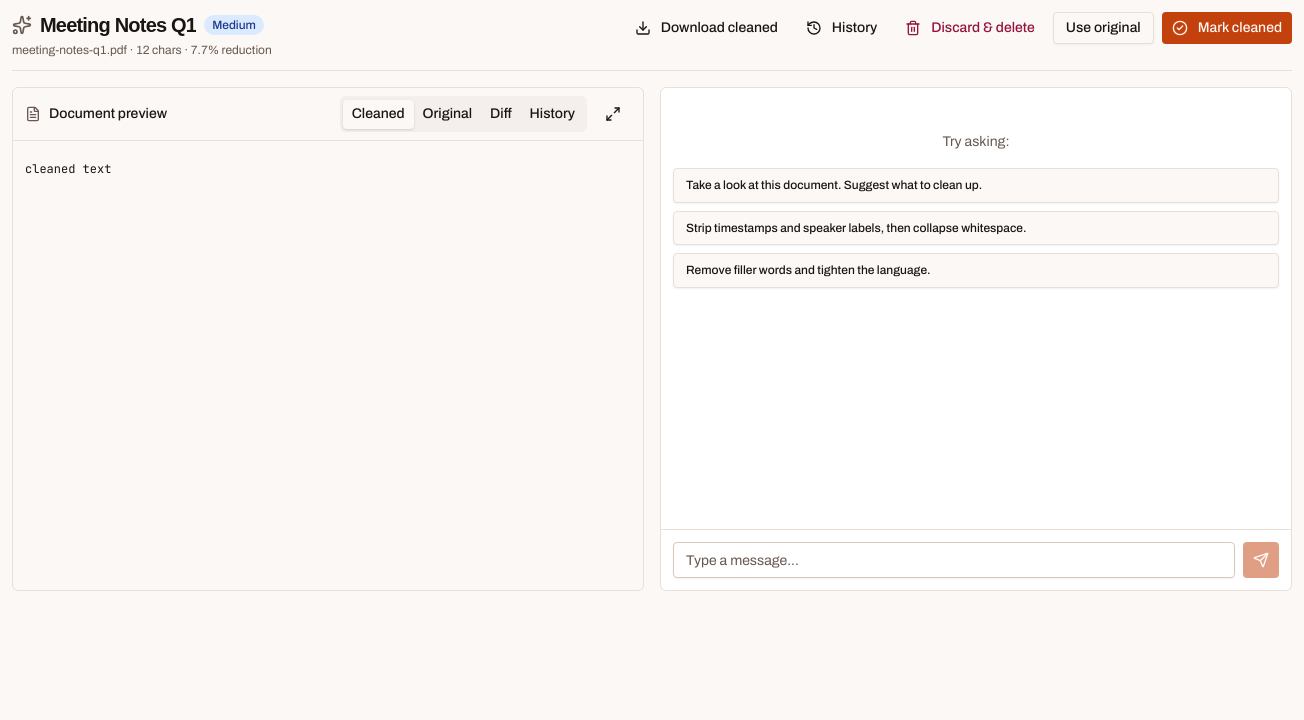
Scenario: CleanupView › switches back to showing processedContent after clicking Cleaned tab
// Switch to Original
Click the tab "Original": [447, 114] box top-left (414, 100), bottom-right (481, 128)
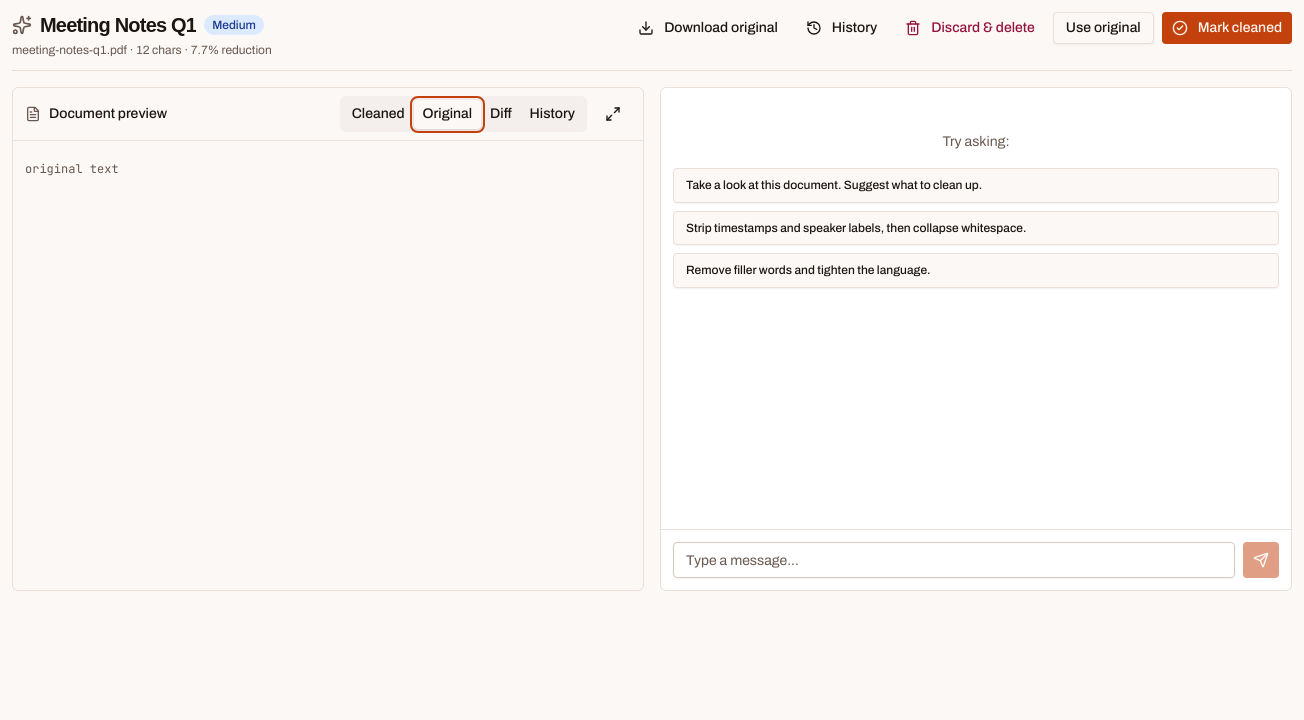
// Switch back to Cleaned
Click the tab "Cleaned": [378, 114] box top-left (343, 100), bottom-right (414, 128)
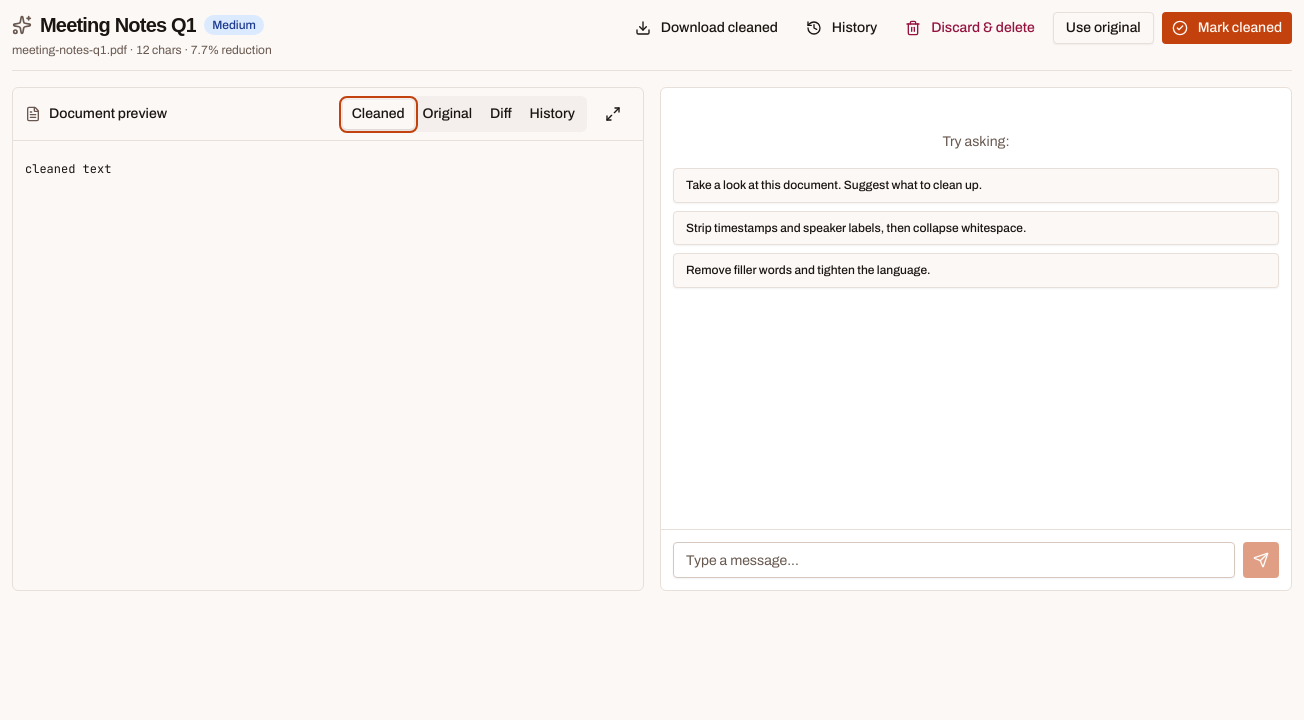
Now the text "cleaned text" is shown, box top-left (25, 161), bottom-right (111, 177)
